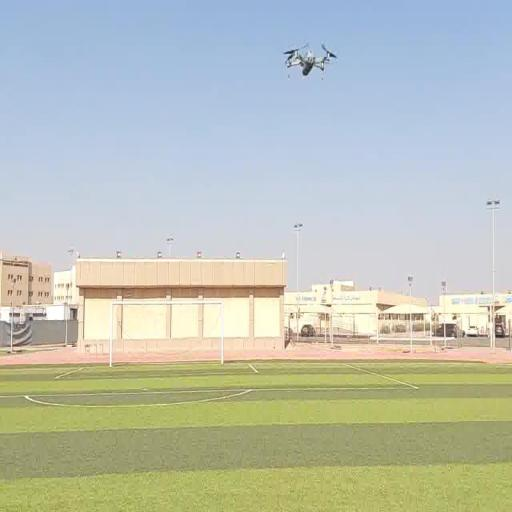drone: (280, 40, 341, 81)
